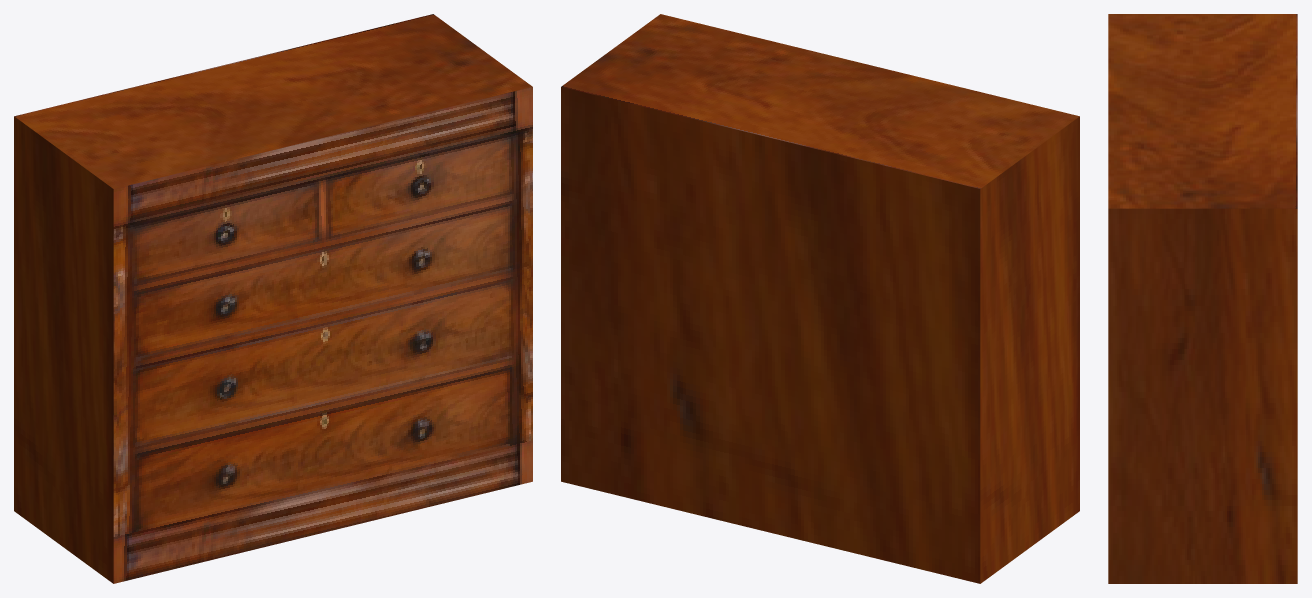
Rendered from drawers.glb.
The picture shows the model from 3 angles, left to right: view 1: azimuth 30°, elevation 25°; view 2: azimuth 150°, elevation 25°; view 3: azimuth 270°, elevation 25°; orthographic projection. The views are drawn at different scales.
Visible parts, largest first — view 1: drawers; view 2: drawers; view 3: drawers.
Boxes of the visible parts, x1=… form: drawers: x1=14, y1=14, x2=532, y2=583; drawers: x1=561, y1=14, x2=1079, y2=583; drawers: x1=1108, y1=14, x2=1297, y2=583.
Bounding box in the file's own units: 1.03 × 0.9285 × 0.4238.
1 material, 1 textured.
